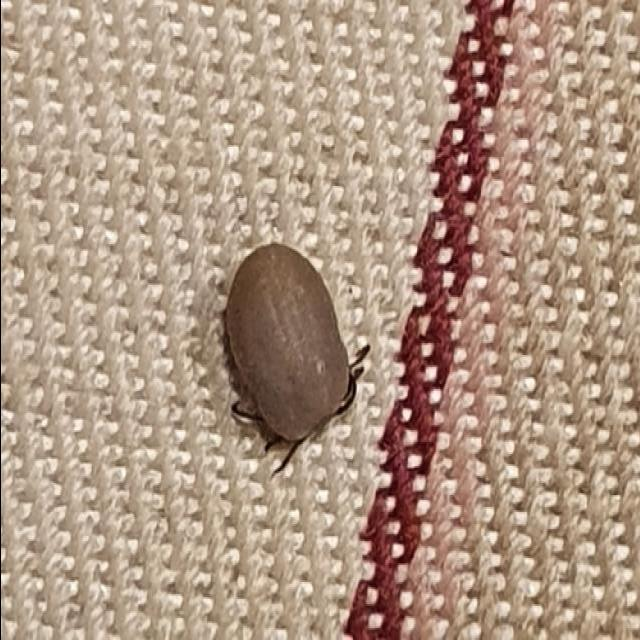Ixodes Ricinus-F-Fed: (218, 242, 355, 466)
